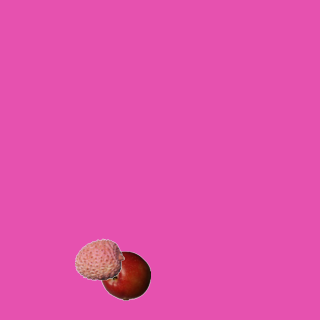Apple Braeburn: (100, 250, 150, 300)
Lychee: (74, 234, 124, 284)
